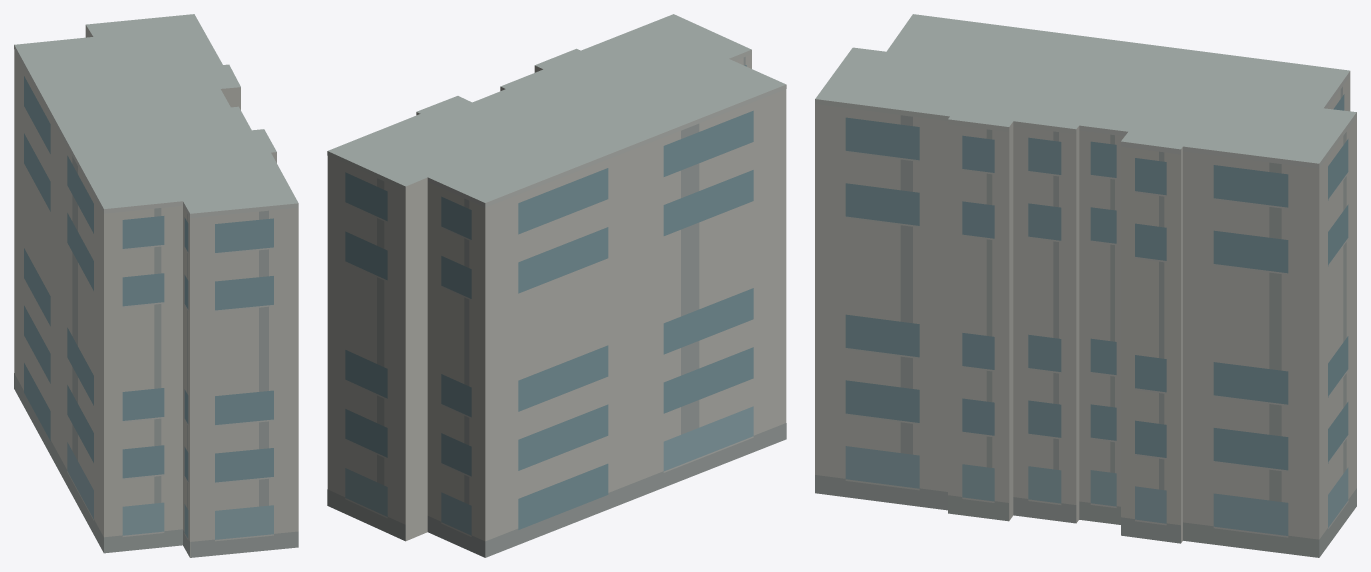
Rendered from survey-upis-33046302.glb.
3 views of the same model, side by side, from view 1: azimuth 30°, elevation 25°; view 2: azimuth 150°, elevation 25°; view 3: azimuth 270°, elevation 25° (orthographic). The views are drawn at different scales.
Visible parts, largest first — view 1: survey-upis-33046302.tmp; view 2: survey-upis-33046302.tmp; view 3: survey-upis-33046302.tmp.
Part boxes in pixels (left/top/right/bottom): survey-upis-33046302.tmp: left=14, top=14, right=298, bottom=557; survey-upis-33046302.tmp: left=327, top=14, right=786, bottom=557; survey-upis-33046302.tmp: left=815, top=14, right=1356, bottom=557.
Size of the model in its own units: 15.24 by 18.7 by 23.3.
